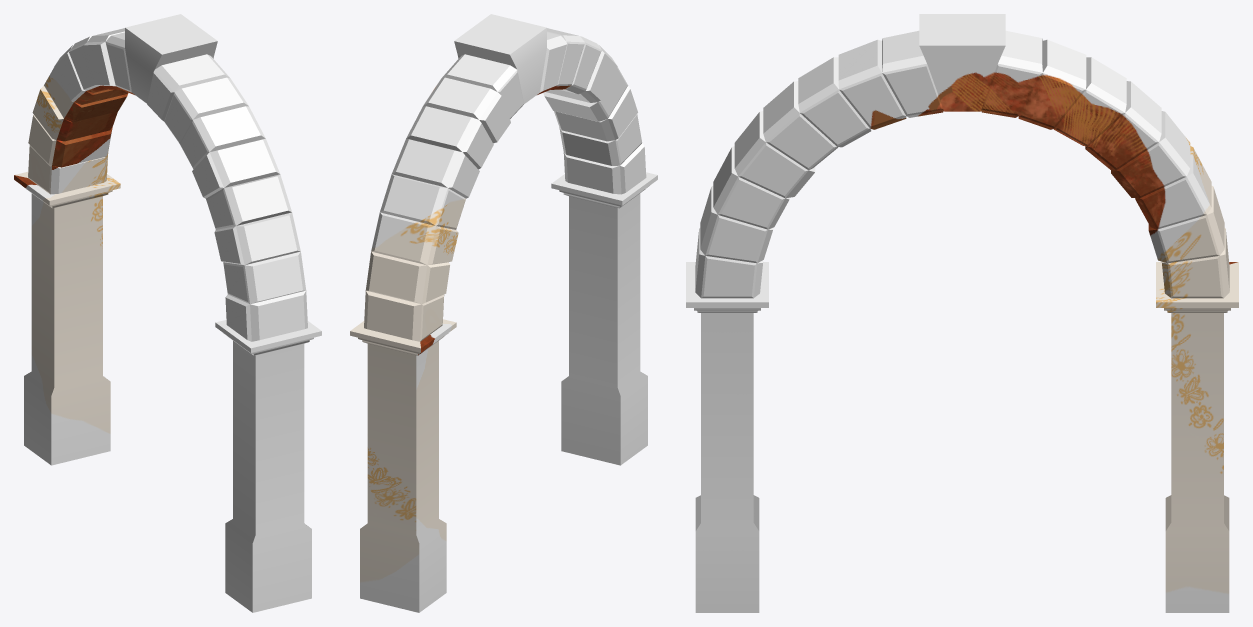
File: portalframe.obj
3 views of the same model, side by side, from view 1: azimuth 30°, elevation 25°; view 2: azimuth 150°, elevation 25°; view 3: azimuth 270°, elevation 25° (orthographic). The views are drawn at different scales.
Parts seen in each view (by area): view 1: pCube1; view 2: pCube1; view 3: pCube1.
Part boxes in pixels (x1,y1,x2,y2): pCube1: [14, 14, 321, 612]; pCube1: [350, 14, 657, 612]; pCube1: [686, 14, 1238, 612].
Bounding box in the file's own units: 1.27 × 8.33 × 7.35.
